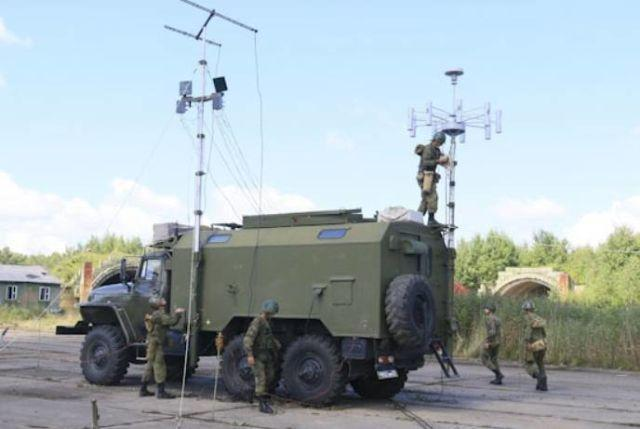person: (134, 295, 186, 398), (244, 297, 288, 409), (411, 131, 457, 218), (516, 302, 560, 392), (472, 301, 509, 383)
truck: (58, 212, 470, 386)
